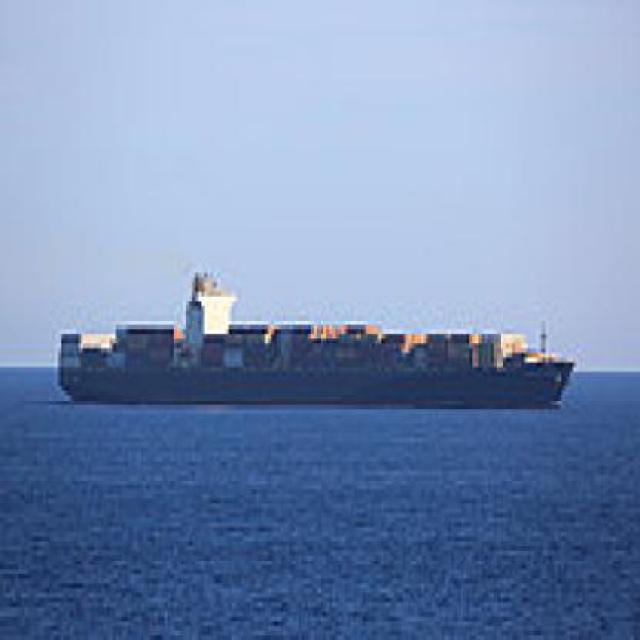container: (47, 256, 584, 430)
